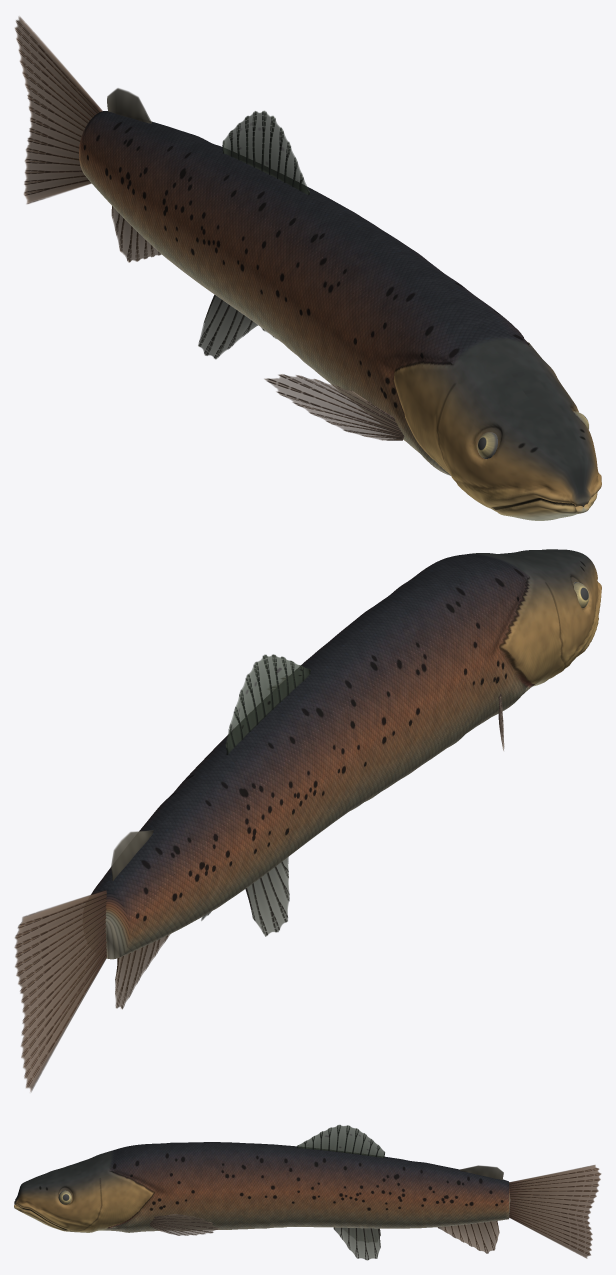
Rendered from glowacica.glb.
3 renders of one model, top to bottom at view 1: azimuth 30°, elevation 25°; view 2: azimuth 150°, elevation 25°; view 3: azimuth 270°, elevation 25°, orthographic. The views are drawn at different scales.
Parts seen in each view (by area): view 1: Body, FinCaudal, FinPectoral, FinDorsal1, FinPelvic, FinAnal, FinAdipose; view 2: Body, FinCaudal, FinDorsal1, FinPelvic, FinAnal, FinAdipose; view 3: Body, FinCaudal, FinDorsal1, FinAnal, FinPelvic, FinPectoral, FinAdipose.
Part boxes in pixels (bbox=[...]): Body: bbox=[79, 111, 601, 520]; FinCaudal: bbox=[15, 16, 102, 204]; FinPectoral: bbox=[264, 374, 404, 440]; FinDorsal1: bbox=[222, 110, 309, 195]; FinPelvic: bbox=[198, 294, 276, 359]; FinAnal: bbox=[111, 206, 161, 262]; FinAdipose: bbox=[107, 88, 151, 123]; Body: bbox=[91, 549, 601, 959]; FinCaudal: bbox=[14, 890, 106, 1091]; FinDorsal1: bbox=[225, 654, 310, 754]; FinPelvic: bbox=[201, 857, 289, 936]; FinAnal: bbox=[115, 934, 170, 1009]; FinAdipose: bbox=[111, 830, 153, 880]; Body: bbox=[14, 1142, 510, 1232]; FinCaudal: bbox=[509, 1165, 601, 1258]; FinDorsal1: bbox=[297, 1125, 384, 1157]; FinAnal: bbox=[437, 1221, 499, 1253]; FinPelvic: bbox=[333, 1227, 380, 1260]; FinPectoral: bbox=[149, 1213, 219, 1235]; FinAdipose: bbox=[460, 1165, 503, 1179].
Size of the model in its own units: 0.2433 by 0.2577 by 1.
Materials: 9 (8 with a texture image).
